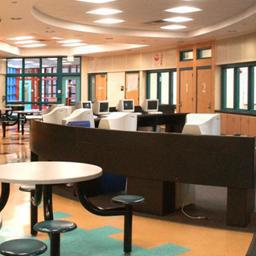Puerta: (181, 70, 215, 112)
Ventana: (219, 69, 253, 112), (147, 74, 176, 105)
